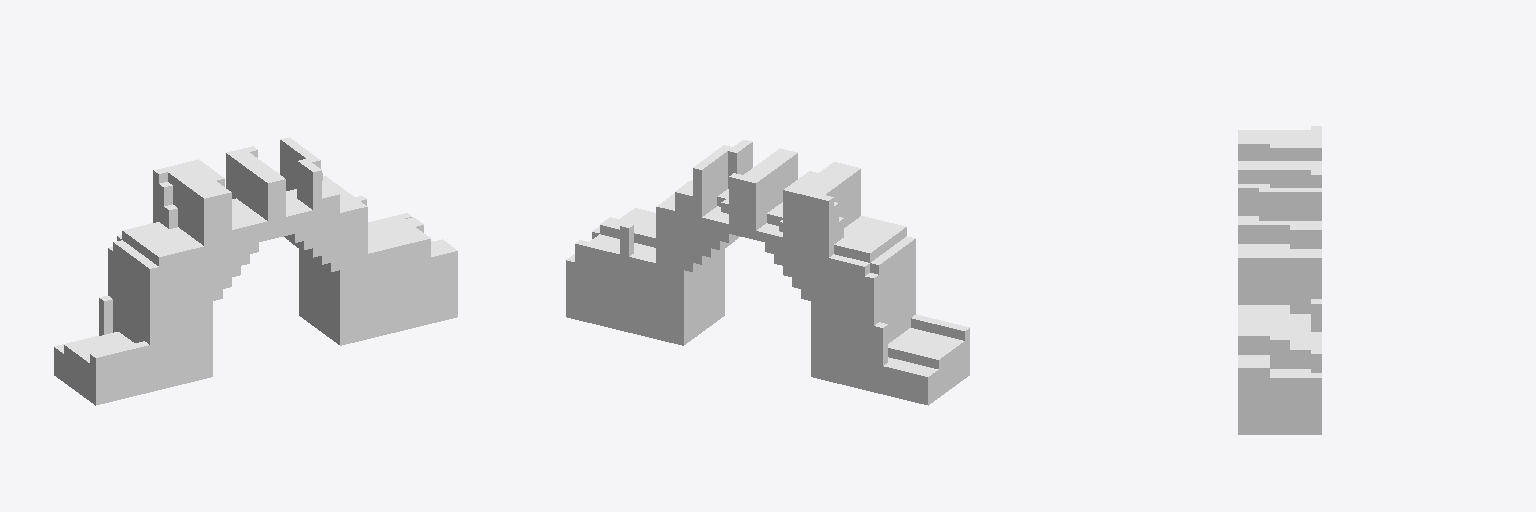
The model's file is defence.vox-1-4.obj.
3 renders of one model, left to right at view 1: azimuth 30°, elevation 25°; view 2: azimuth 150°, elevation 25°; view 3: azimuth 270°, elevation 25°, orthographic.
Visible parts, largest first — view 1: 4; view 2: 4; view 3: 4.
Boxes of the visible parts, x1,y1,x2,y2 form: 4: [54, 137, 457, 405]; 4: [566, 140, 969, 405]; 4: [1238, 126, 1321, 434].
Size of the model in its own units: 4 by 1.9 by 0.8.